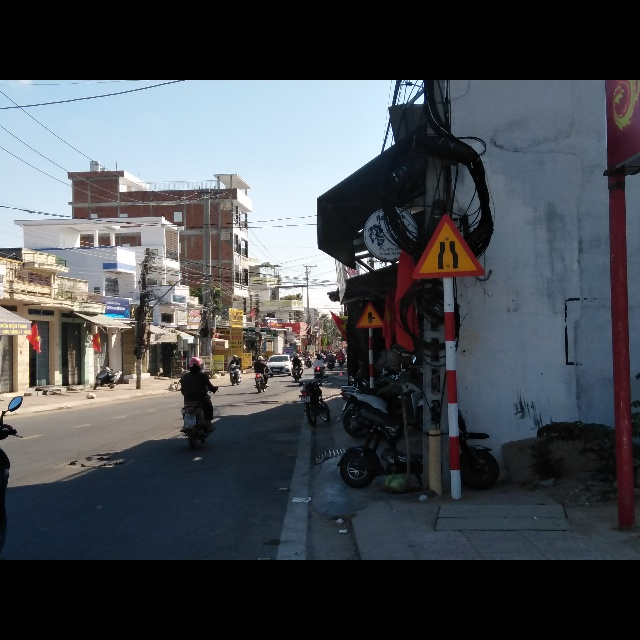Giao nhau với đường không ưu tiên: (356, 304, 385, 330)
Đường bị hẹp cả hai bên: (411, 212, 486, 279)
